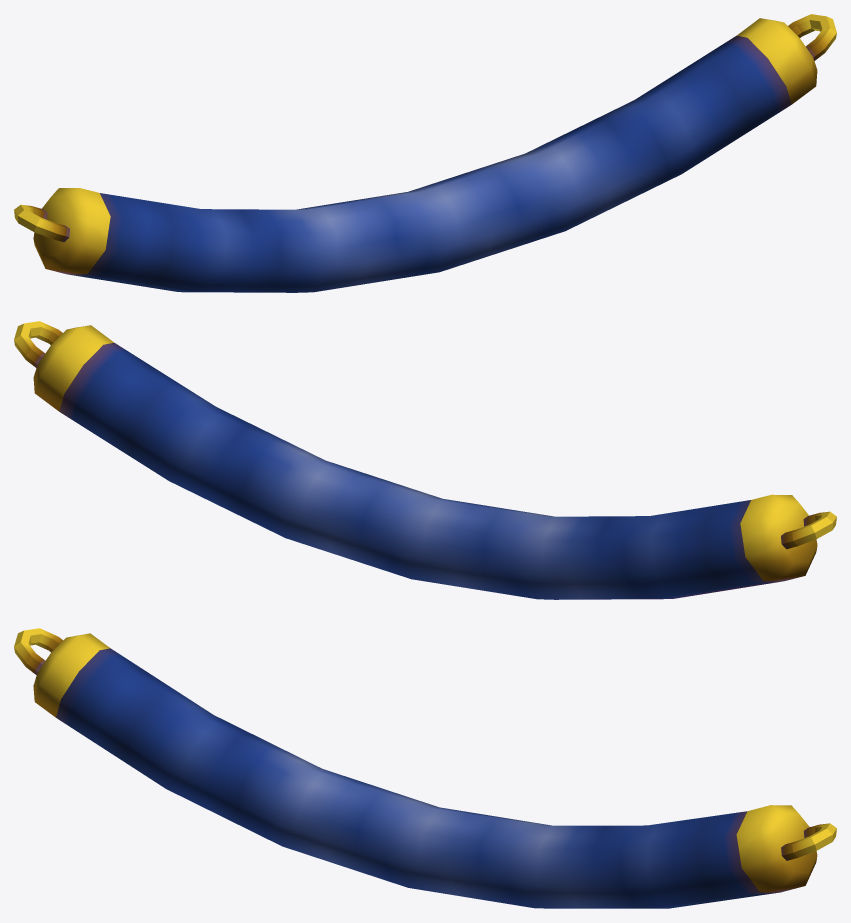
File: fence_0378x06.obj
The picture shows the model from 3 angles, top to bottom: view 1: azimuth 30°, elevation 25°; view 2: azimuth 150°, elevation 25°; view 3: azimuth 330°, elevation 25°; orthographic projection.
Visible parts, largest first — view 1: Rope_Blue.001; view 2: Rope_Blue.001; view 3: Rope_Blue.001.
Part boxes in pixels (x1=…): Rope_Blue.001: x1=14, y1=14, x2=836, y2=292; Rope_Blue.001: x1=14, y1=321, x2=836, y2=599; Rope_Blue.001: x1=14, y1=628, x2=836, y2=908.
Size of the model in its own units: 2.74 by 0.5411 by 0.2604.
